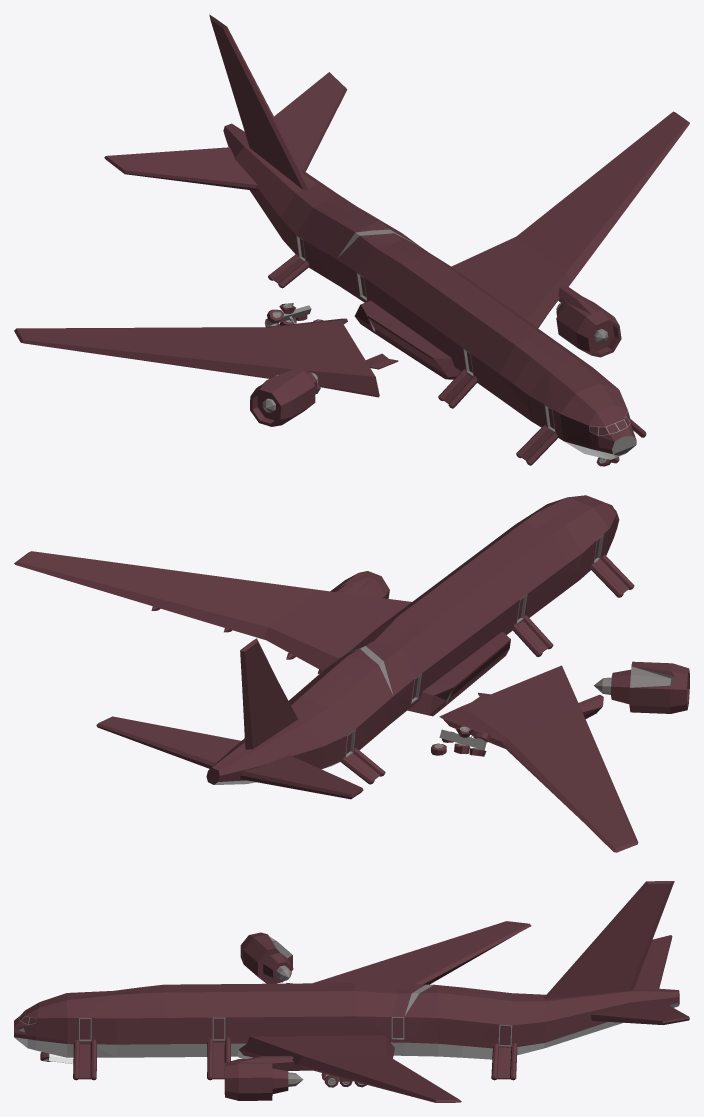
The model's file is plane-passenger-apocalypse.fbx.
3 views of the same model, one above another, from view 1: azimuth 30°, elevation 25°; view 2: azimuth 150°, elevation 25°; view 3: azimuth 270°, elevation 25° (orthographic). The views are drawn at different scales.
Visible parts, largest first — view 1: plane-passenger-apocalypse-base, plane-passenger-apocalypse-props; view 2: plane-passenger-apocalypse-base, plane-passenger-apocalypse-props; view 3: plane-passenger-apocalypse-base, plane-passenger-apocalypse-props.
Part boxes in pixels (x1,y1,x2,y2): plane-passenger-apocalypse-base: (104, 14, 689, 466); plane-passenger-apocalypse-props: (14, 254, 646, 465); plane-passenger-apocalypse-base: (14, 495, 619, 799); plane-passenger-apocalypse-props: (341, 555, 689, 852); plane-passenger-apocalypse-base: (14, 881, 689, 1102); plane-passenger-apocalypse-props: (73, 921, 531, 1080).
Bounding box in the file's own units: 59.3 × 17.45 × 64.21.
